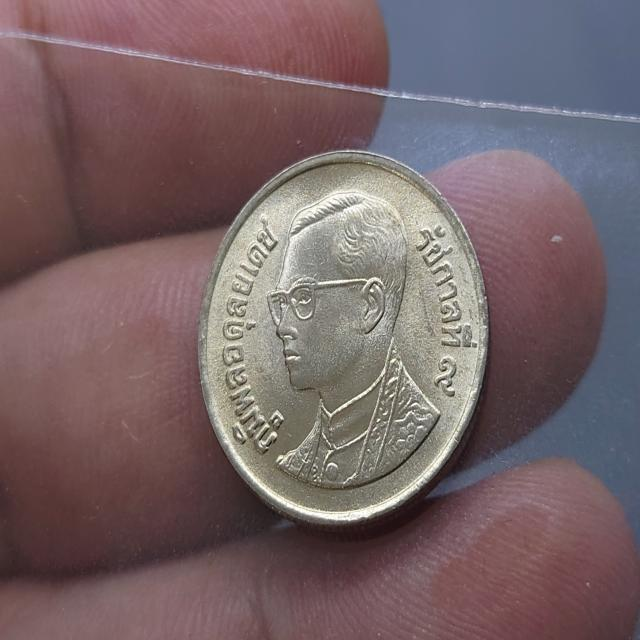1 Bath: (192, 136, 498, 538)
